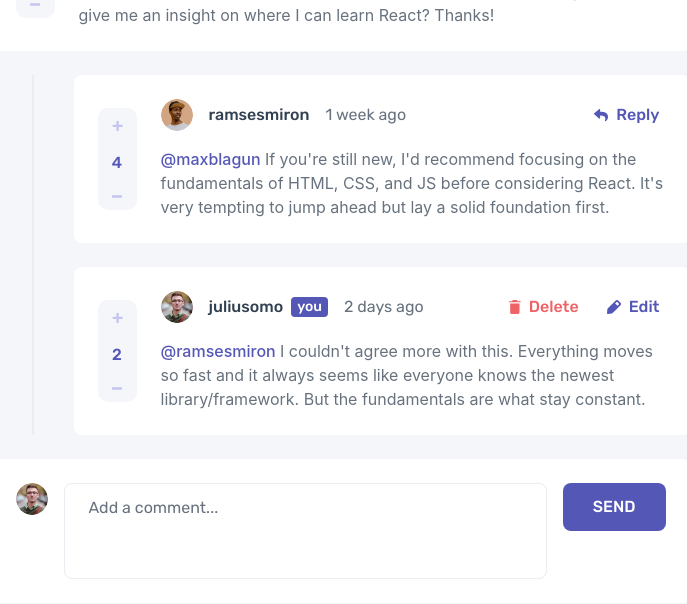
Test: App › edits own comment
(page scrolled)
Click the button "Edit": [633, 307] box [601, 291, 666, 323]
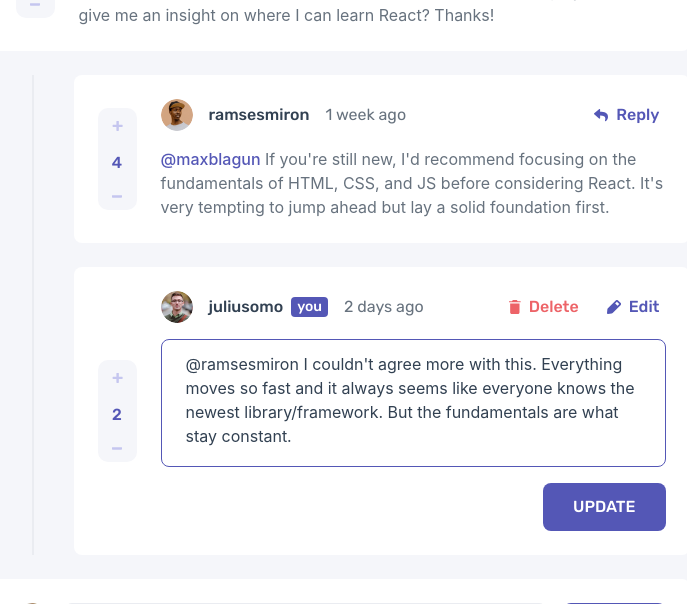
Replace the text in the text box named "Edit comment" with "Edited text": [413, 403] box [160, 339, 666, 467]
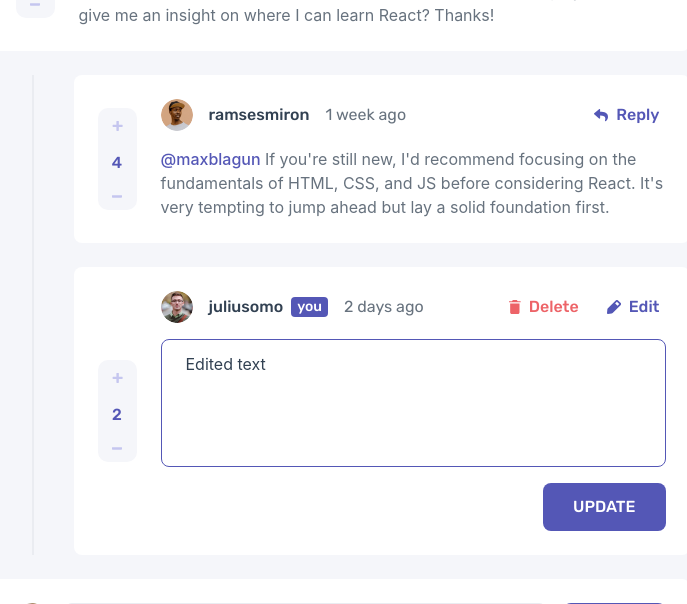
Click the button "Update": [604, 507] box [543, 483, 666, 531]
(page scrolled)
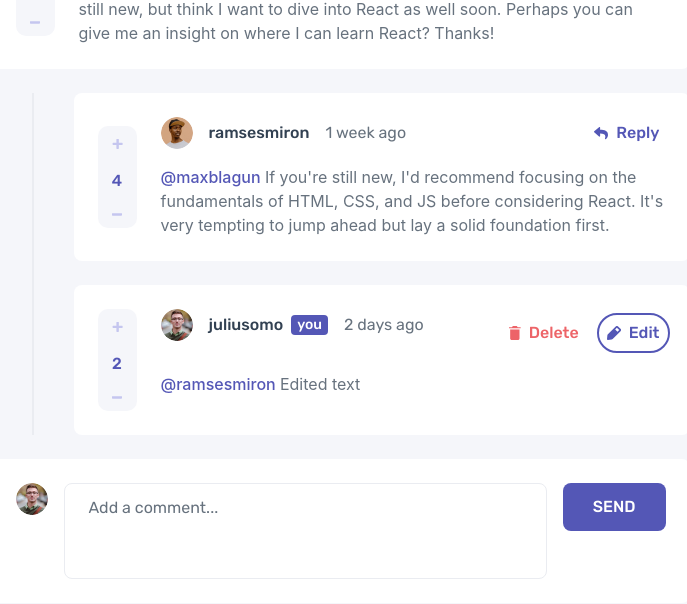
Check: the text "Edited text" is shown, box [280, 374, 360, 394]
